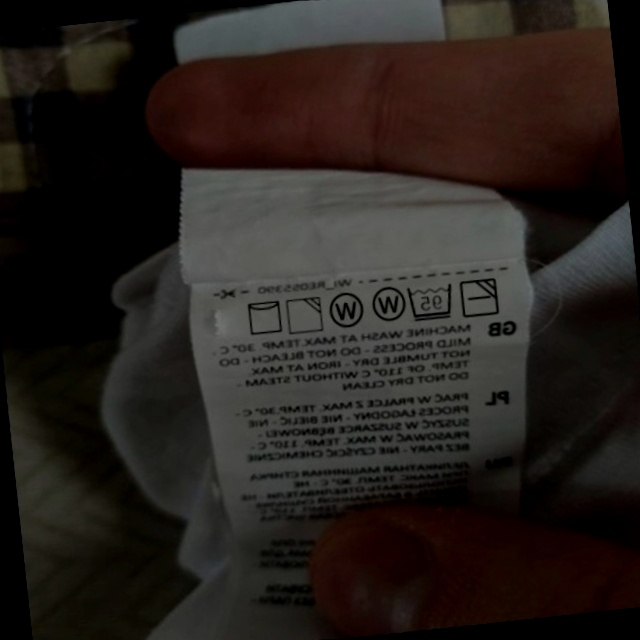95C: (402, 276, 460, 326)
dry_flat_in_shade: (455, 271, 505, 323)
line_dry: (240, 293, 288, 341)
shade_dry: (280, 291, 328, 339)
wet_clean: (323, 287, 369, 335), (365, 278, 410, 327)
